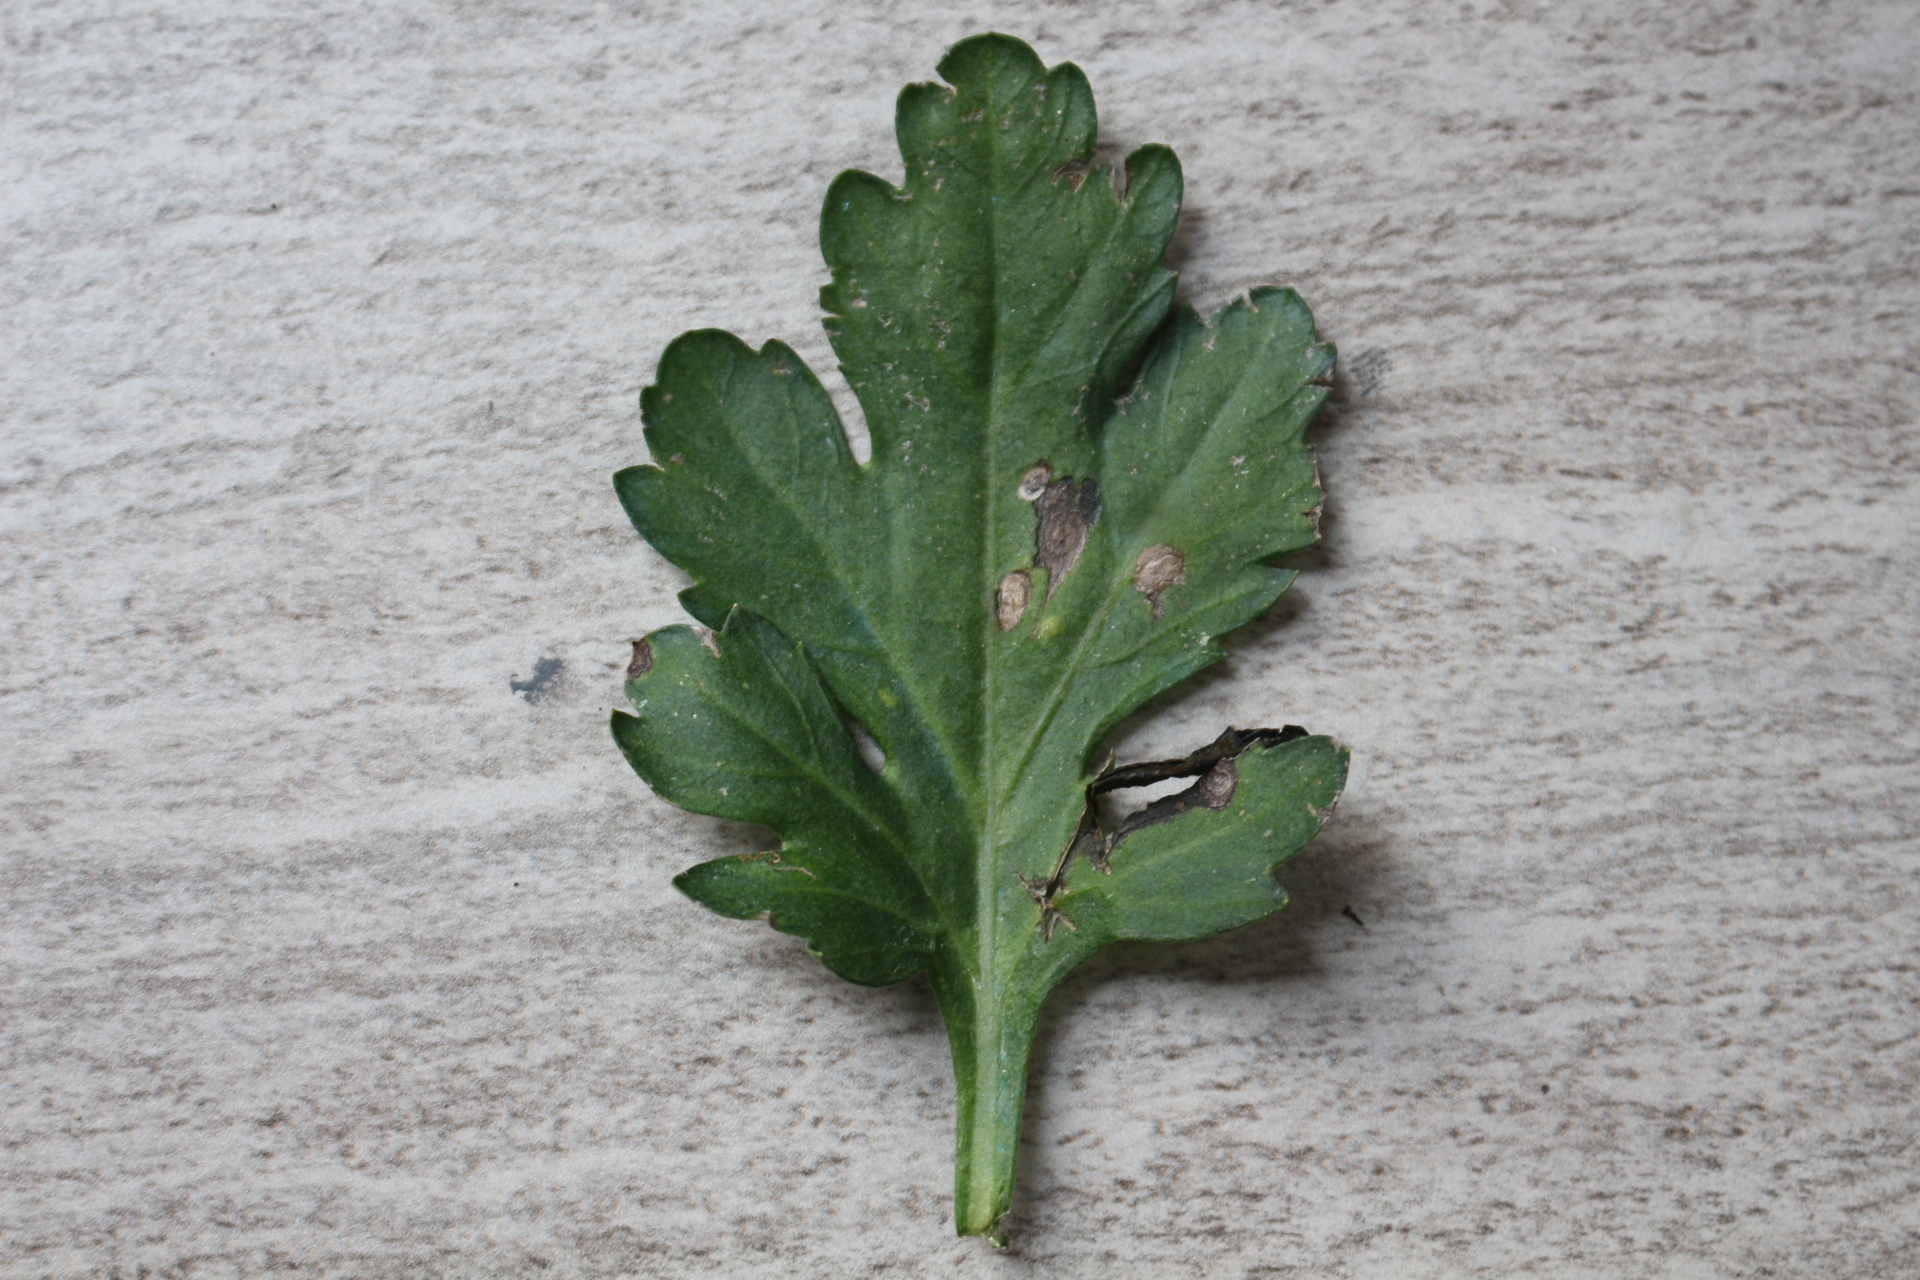namden: (1019, 469, 1097, 589), (1129, 541, 1184, 619), (986, 570, 1034, 631)
